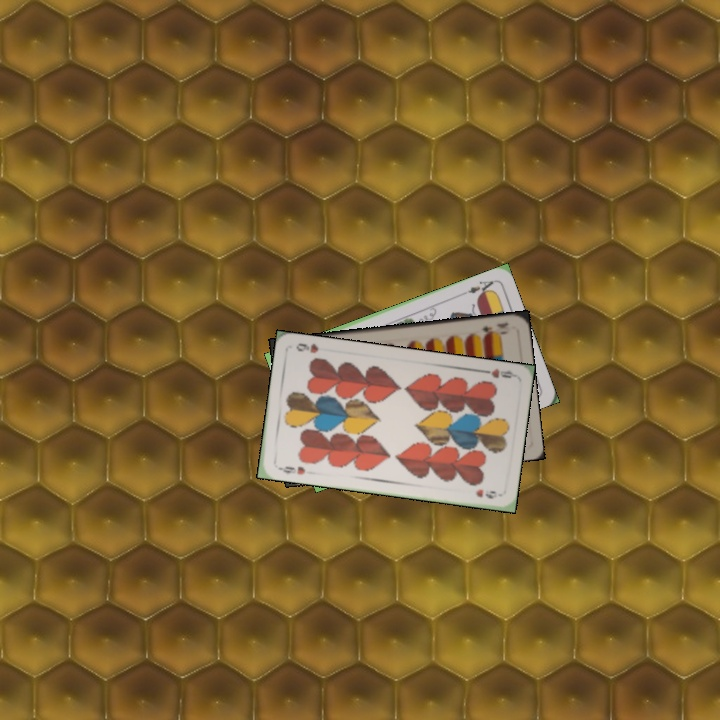E10: (477, 318, 511, 339)
EA: (459, 276, 497, 298)
H9: (477, 364, 517, 381), (273, 460, 308, 477)
